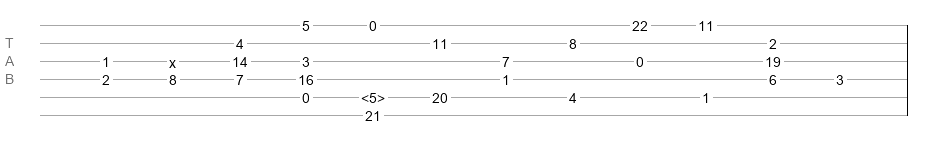0: (302, 90, 310, 100), (369, 18, 377, 28), (636, 54, 644, 64)
1: (102, 54, 110, 64), (502, 72, 510, 82), (702, 90, 710, 100)
11: (432, 36, 448, 46), (698, 18, 714, 28)
14: (232, 54, 248, 64)
16: (298, 72, 314, 82)
19: (765, 54, 781, 64)
2: (102, 72, 110, 82), (769, 36, 777, 46)
20: (432, 90, 448, 100)
21: (365, 108, 381, 118)
22: (632, 18, 648, 28)
3: (302, 54, 310, 64), (836, 72, 844, 82)
4: (236, 36, 244, 46), (569, 90, 577, 100)
5: (302, 18, 310, 28)
6: (769, 72, 777, 82)
7: (236, 72, 244, 82), (502, 54, 510, 64)
8: (169, 72, 177, 82), (569, 36, 577, 46)
harmonic: (361, 90, 385, 100)
x: (169, 55, 176, 63)
